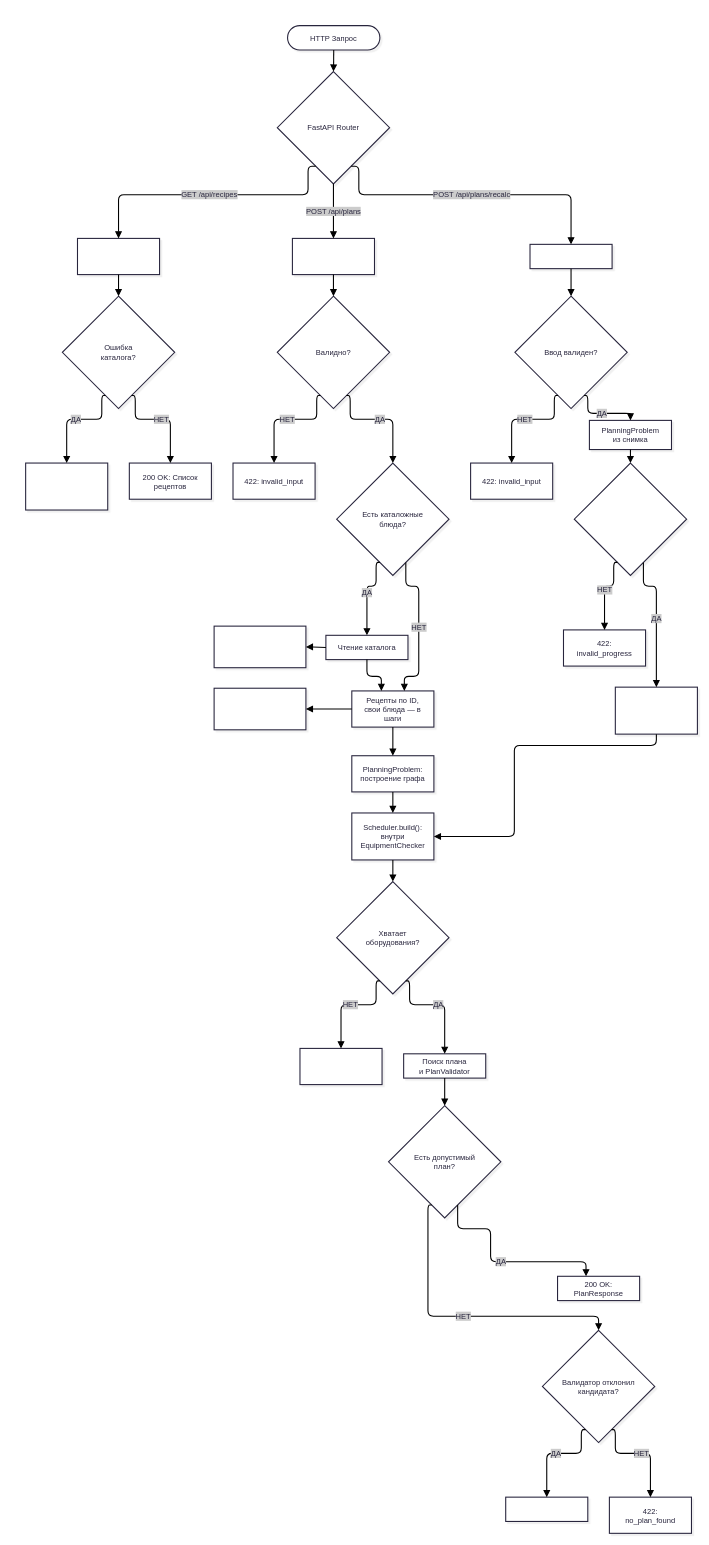
Some shapes in this 709 by 1545 pixel diagram are drawn without their labels. Here are the shapes that lost their labels. From the top down, the centre of each, then its label:
(x=119, y=257): Чтение каталога (YAML/Supabase)
(x=334, y=257): Валидация Pydantic
(x=572, y=257): Валидация снимка
(x=67, y=487): 503: detail
(x=631, y=520): История не конфликтует?
(x=260, y=647): 503: catalog_unavailable
(x=260, y=709): 404: recipe_not_found
(x=657, y=711): Recalculator: фиксация интервалов
(x=341, y=1067): 409: missing_equipment
(x=547, y=1510): 500: invalid_plan
